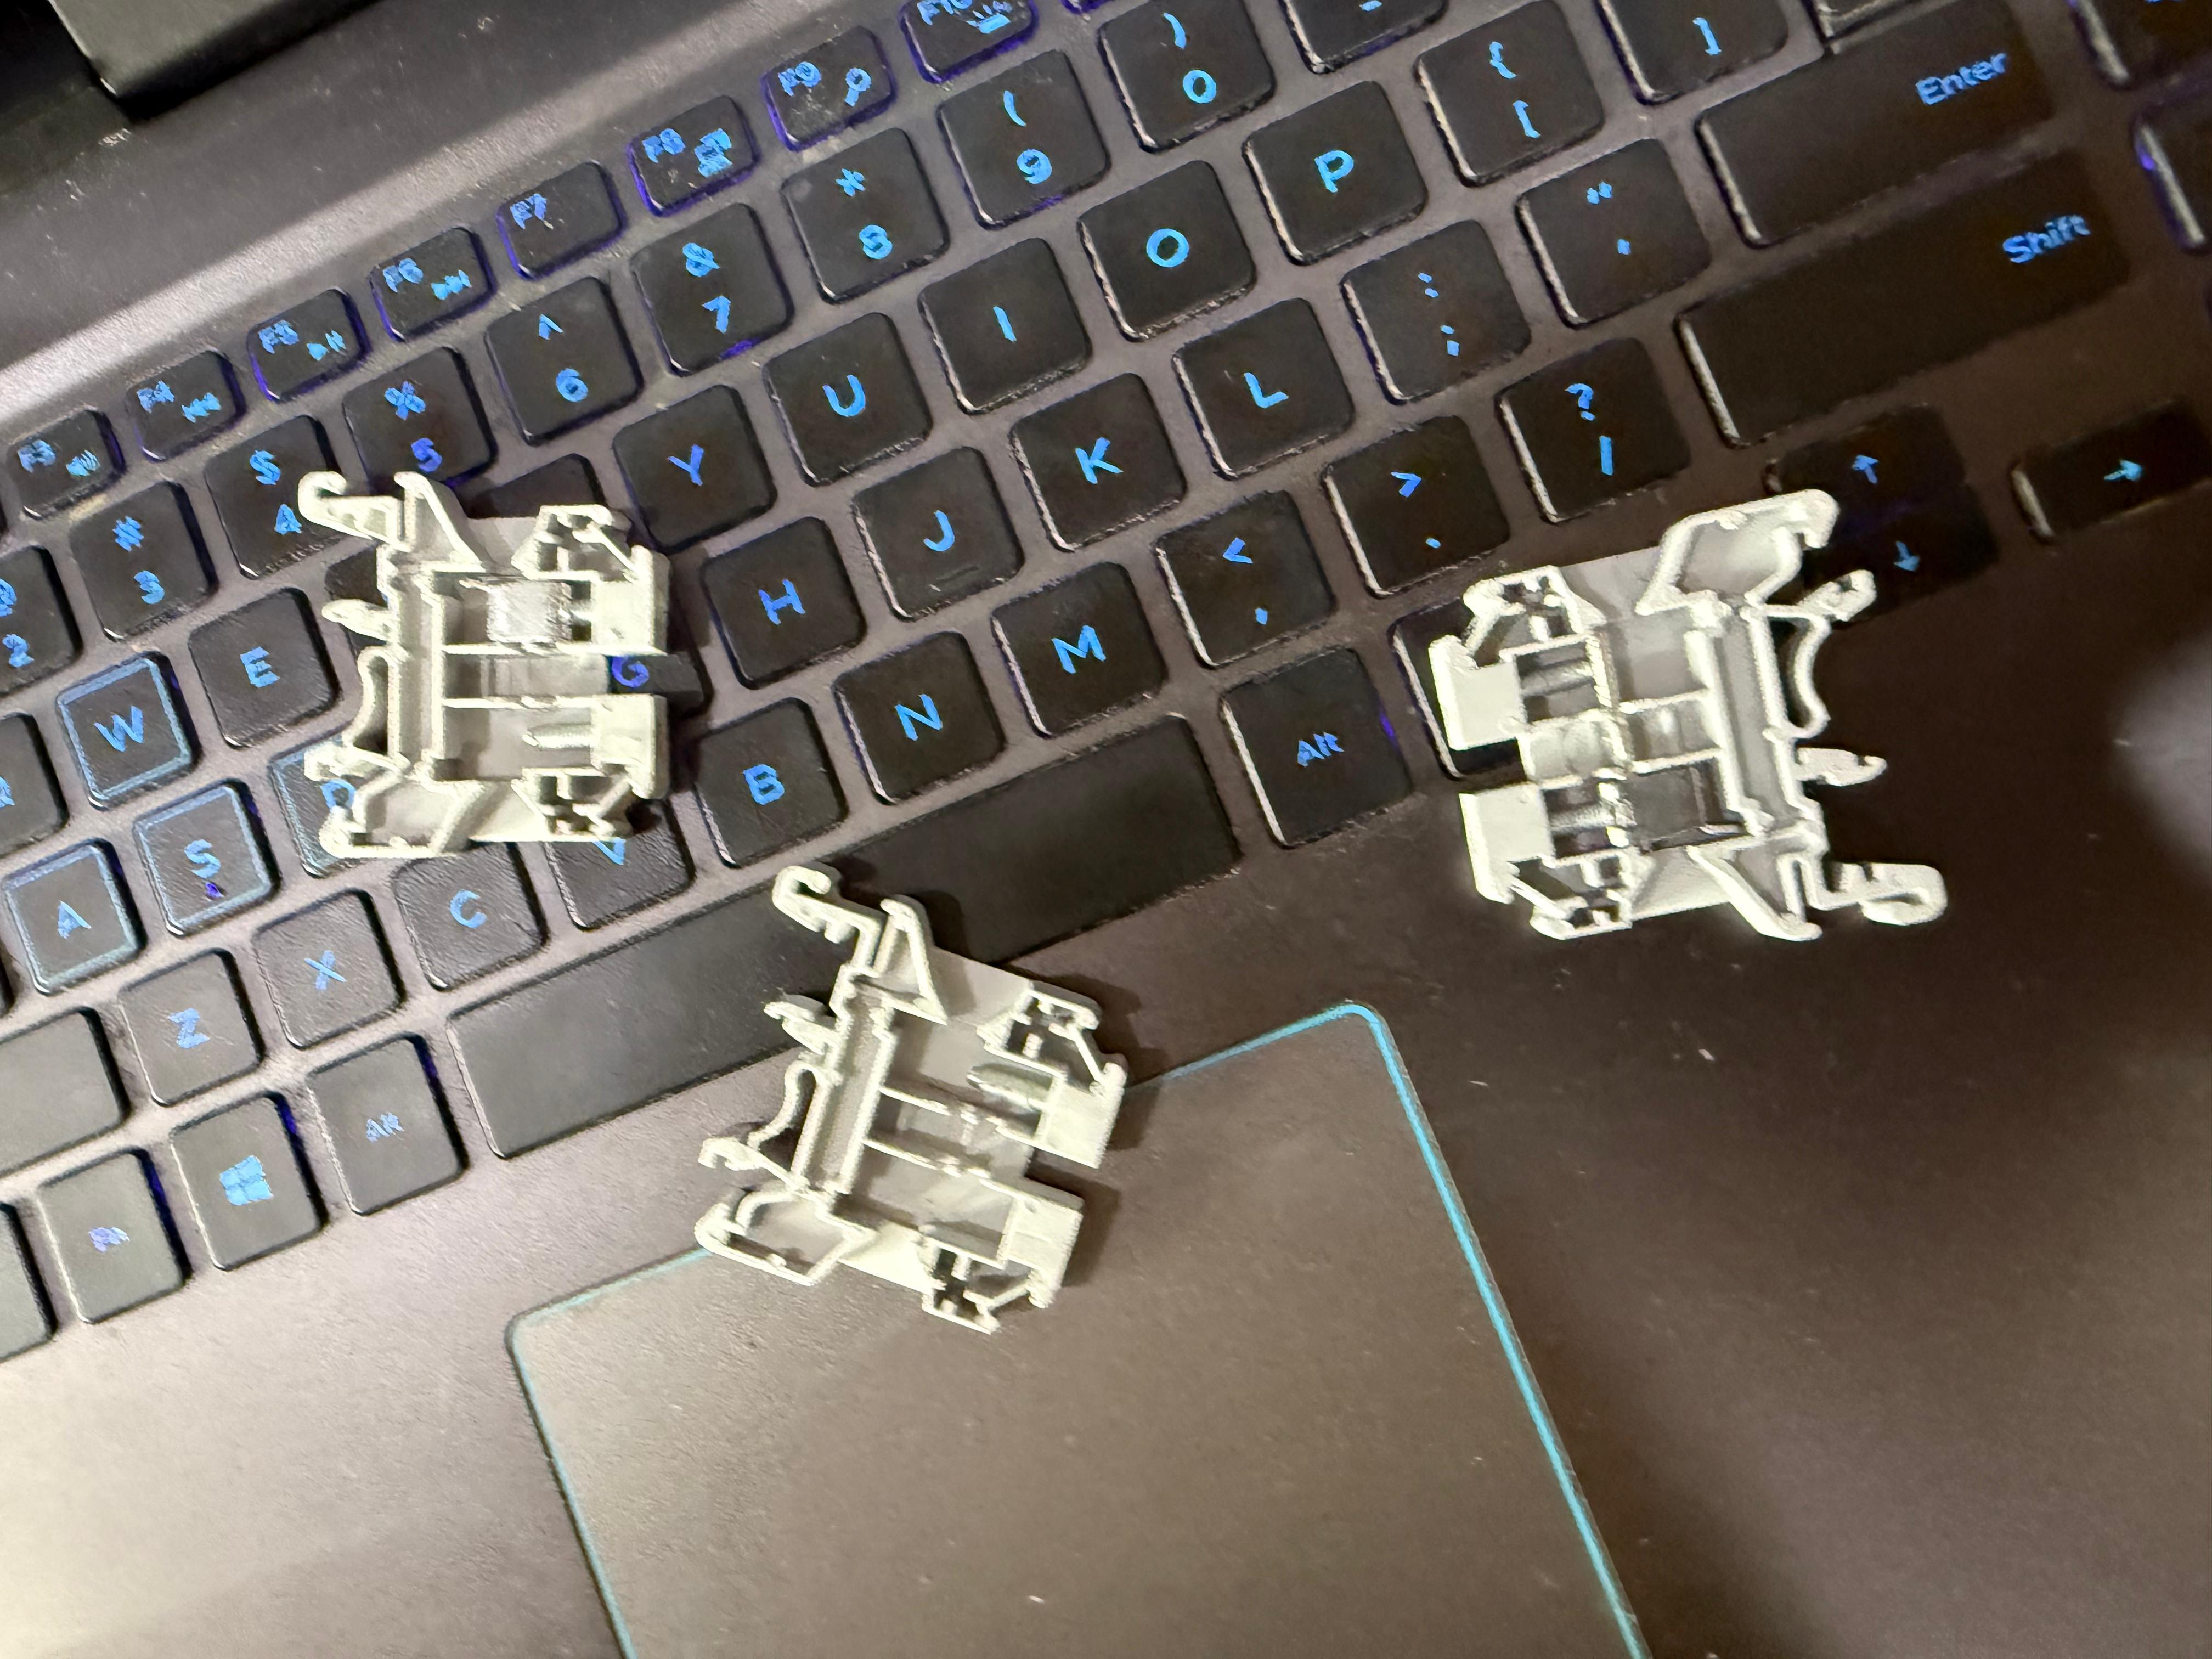Reject: (1425, 486, 1956, 945), (702, 864, 1122, 1331), (294, 469, 674, 845)
